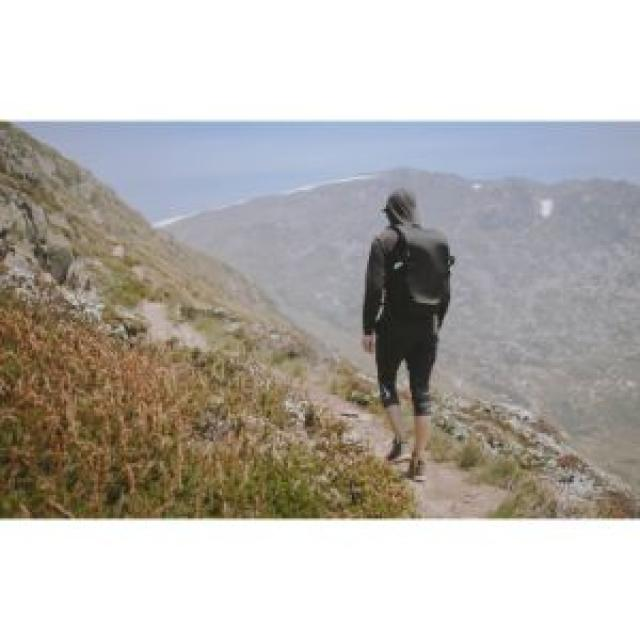nonfall: (340, 177, 477, 496)
